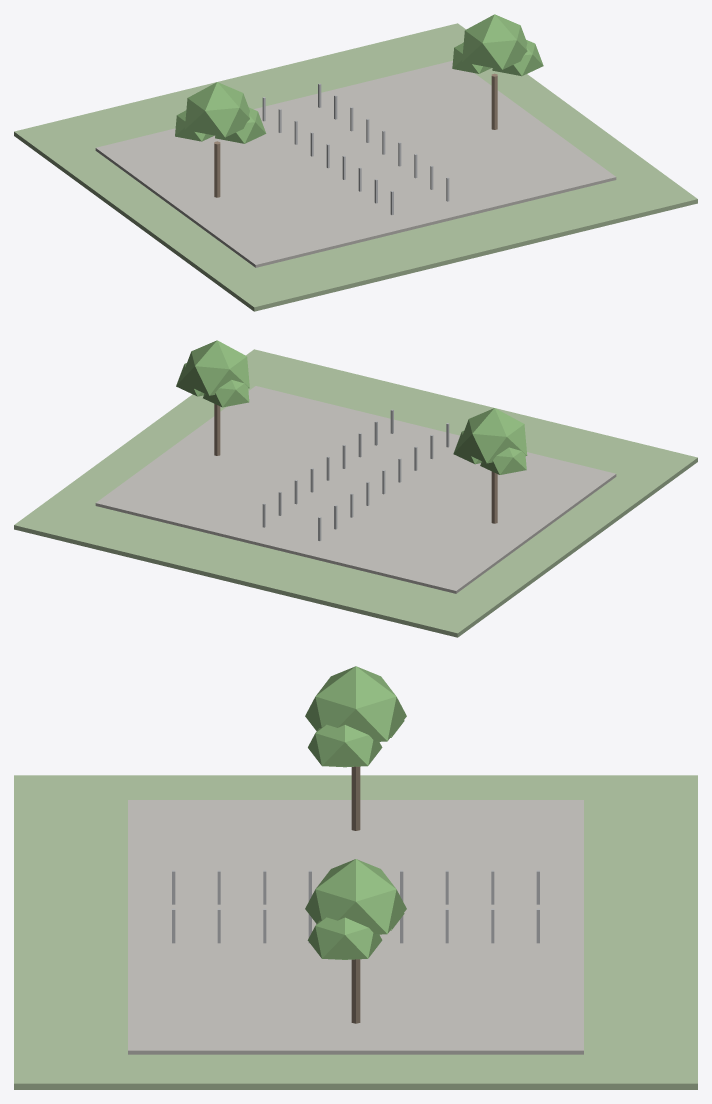
The model's file is 16_parks_greenery-09.glb.
3 views of the same model, one above another, from view 1: azimuth 30°, elevation 25°; view 2: azimuth 150°, elevation 25°; view 3: azimuth 270°, elevation 25° (orthographic). The views are drawn at different scales.
Size of the model in its own units: 16 by 4.19 by 15.
